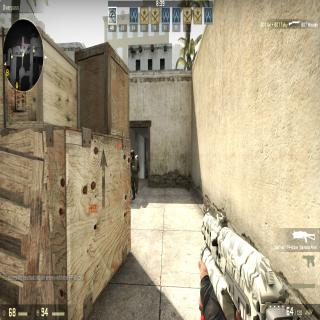CT-Body: (130, 149, 139, 200)
CT-Head: (130, 149, 135, 159)
